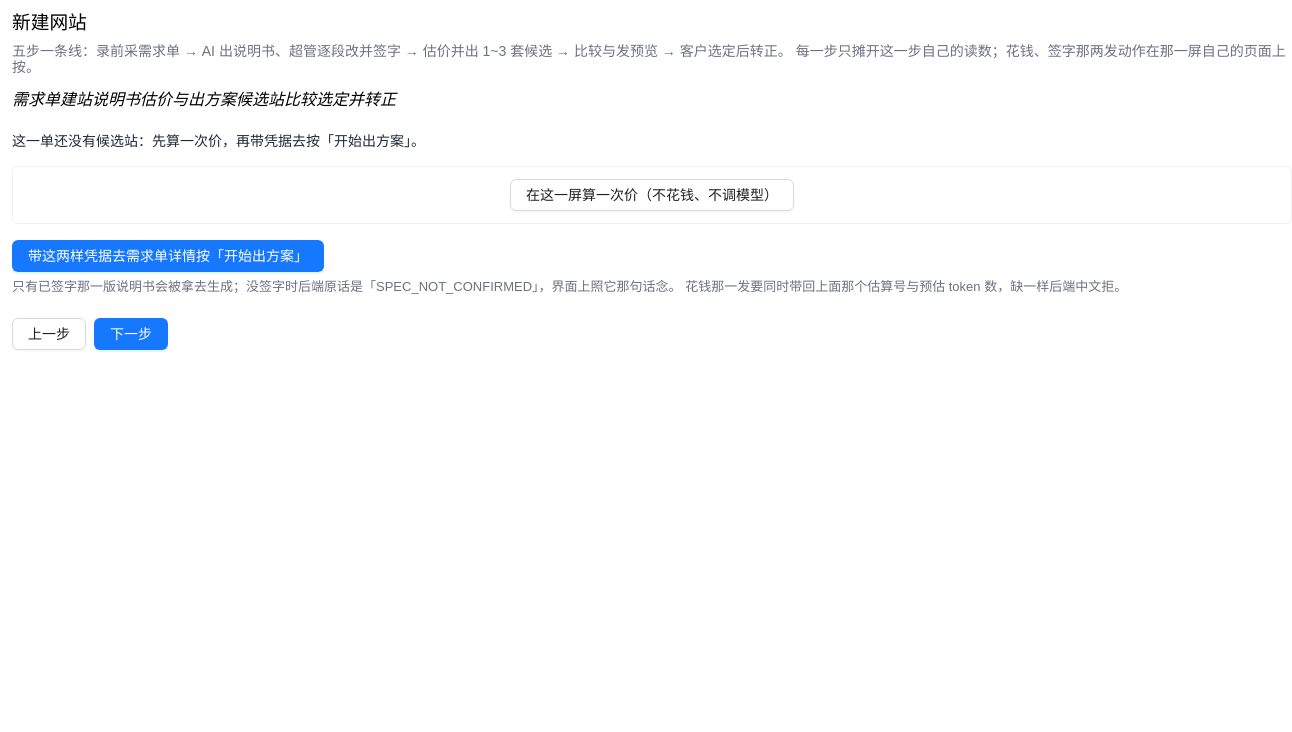
Test case: 新建网站向导 › 第 3 步把「这一家已经烧了多少」与价签并排摆着，两份数字各说各的口径
Step 1. Click the button "在这一屏算一次价（不花钱、不调模型）" → (652, 194), box x1=510 y1=178 x2=794 y2=210
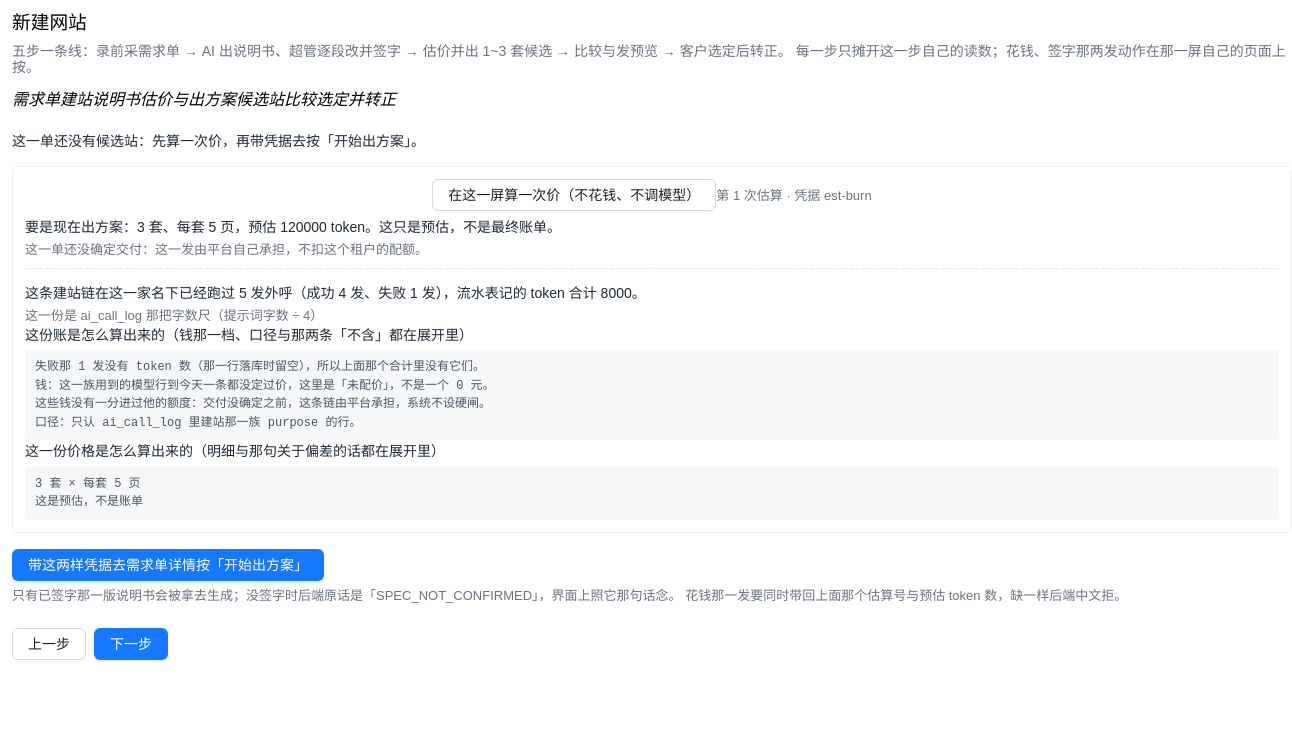
Now the text "已经跑过 5 发外呼" is shown, box x1=25 y1=285 x2=646 y2=301
Now the text "失败那 1 发没有 token 数" is shown, box x1=35 y1=360 x2=495 y2=430
Now the text "未配价" is shown, box x1=35 y1=360 x2=495 y2=430
